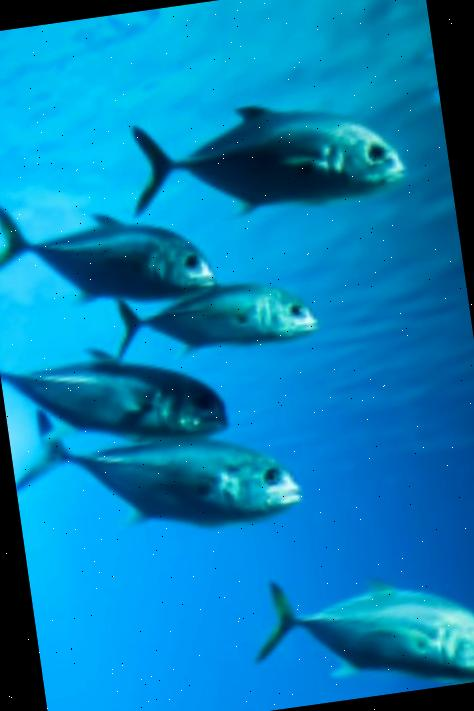fish: (6, 377, 304, 552), (118, 81, 408, 234), (247, 545, 474, 710), (0, 173, 217, 326), (0, 327, 230, 463), (112, 267, 320, 364)
